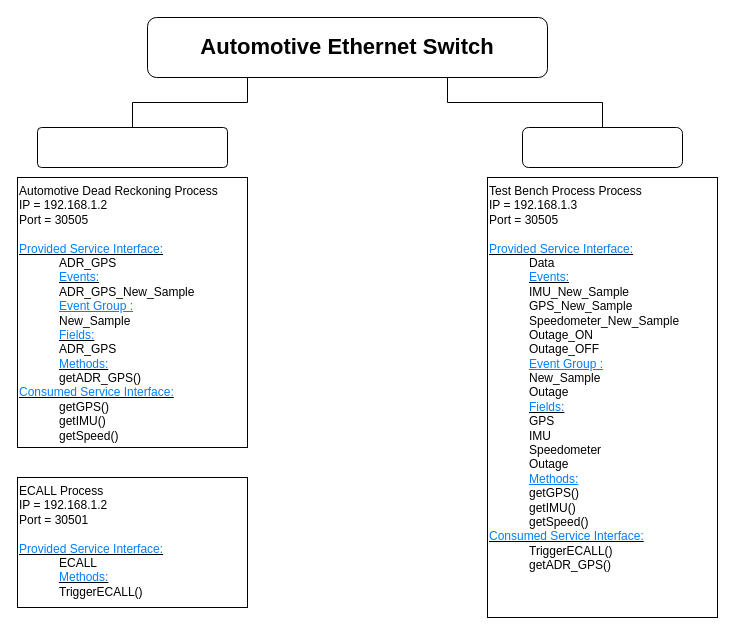
The diagram is 735 pixels wide and 635 high, and some of its shapes have lost their labels. Here are the shapes that lost their labels. From the top down, the centre of each, then its label:
At point 132,147: "Telematics Control Unit".
At point 602,147: "Test Bench".
